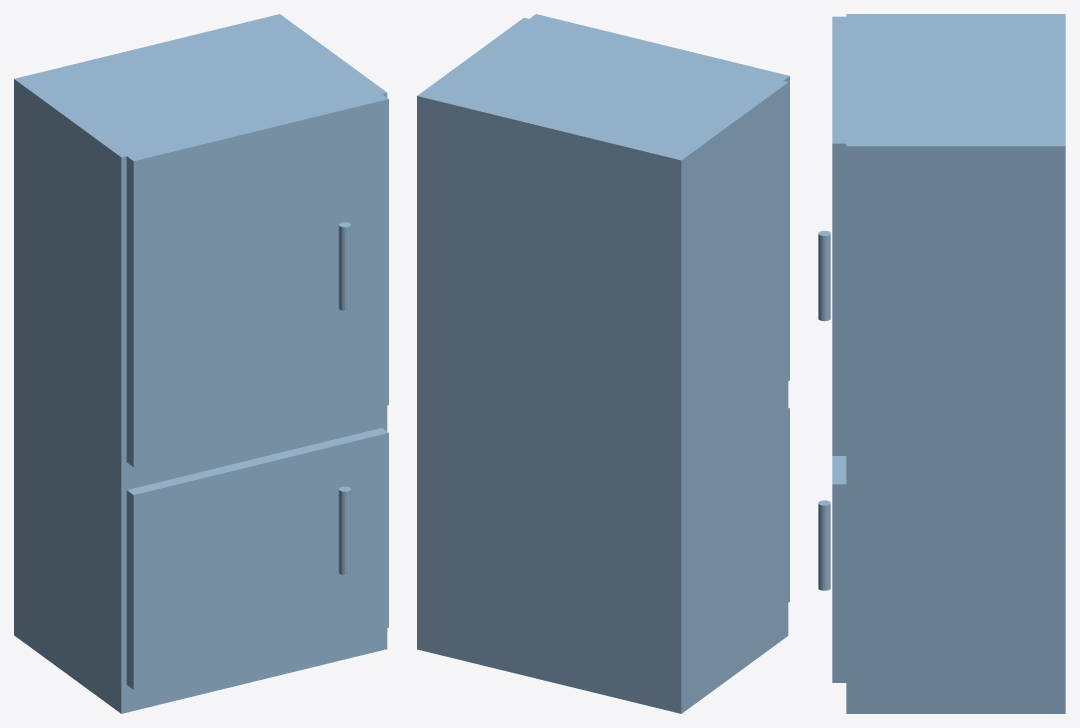
The model's file is f_fridge.glb.
The picture shows the model from 3 angles, left to right: view 1: azimuth 30°, elevation 25°; view 2: azimuth 150°, elevation 25°; view 3: azimuth 270°, elevation 25°; orthographic projection. The views are drawn at different scales.
Parts seen in each view (by area): view 1: f_fridge; view 2: f_fridge; view 3: f_fridge.
Boxes of the visible parts, x1,y1,x2,y2 form: f_fridge: [14, 14, 388, 713]; f_fridge: [417, 14, 789, 713]; f_fridge: [818, 14, 1065, 713].
Bounding box in the file's own units: 1 × 2 × 0.79.
